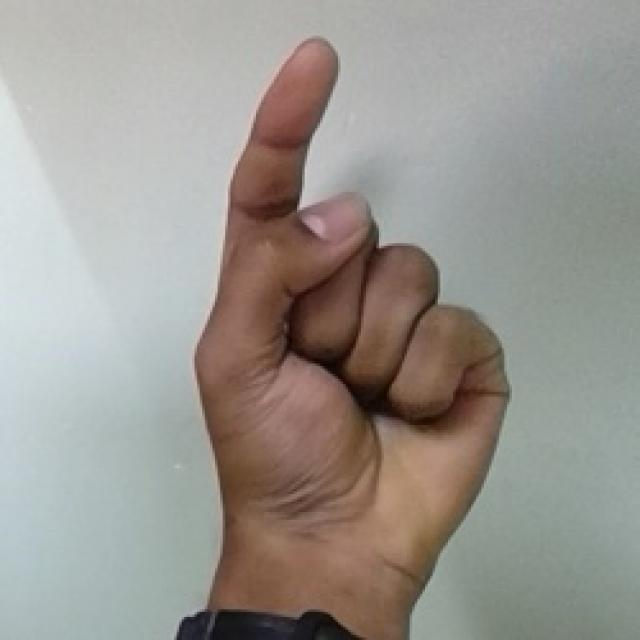Numeric-1: (193, 32, 513, 626)
